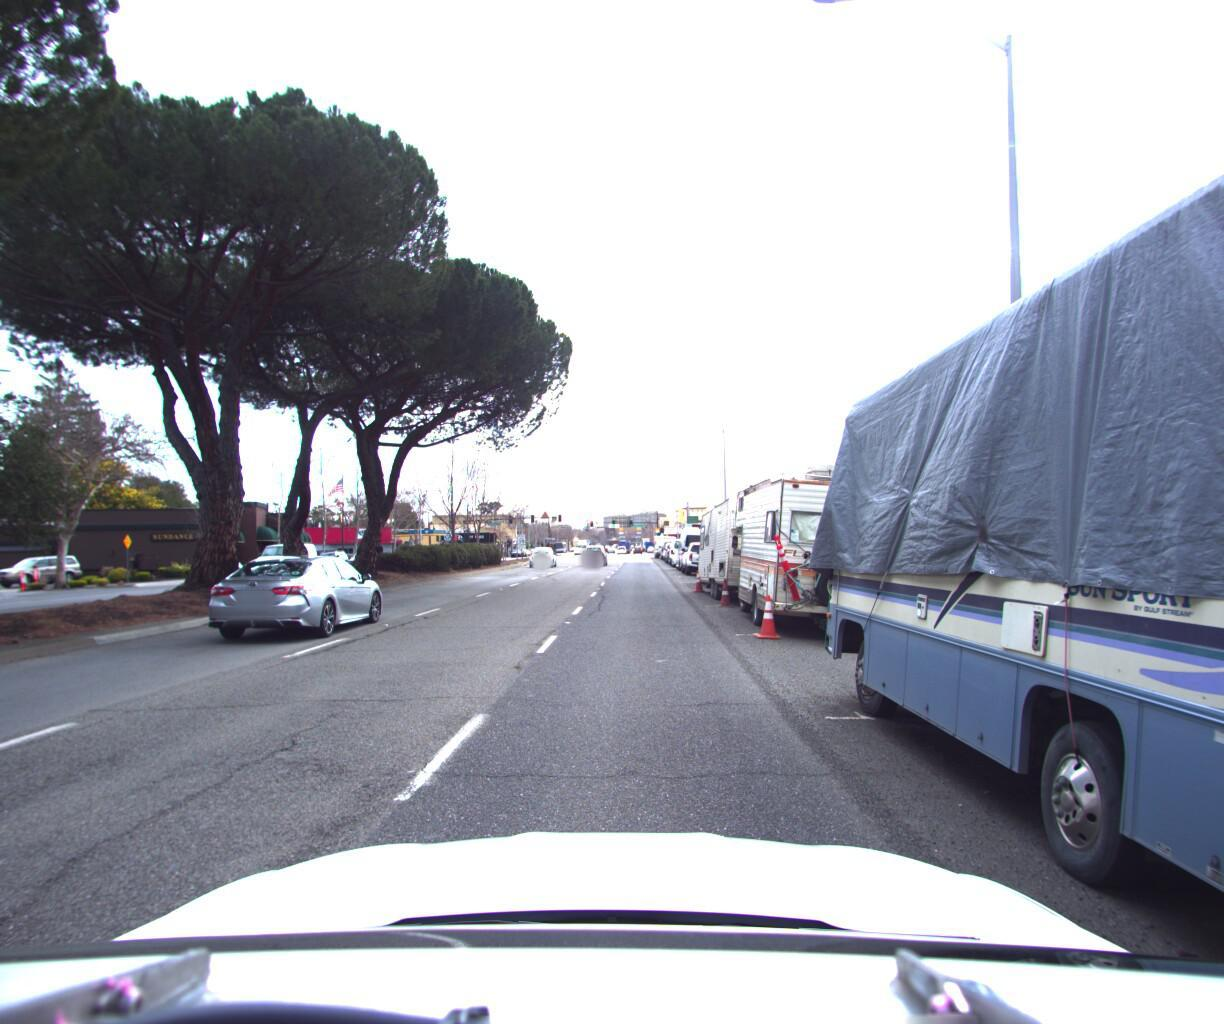car: (200, 547, 393, 645), (245, 537, 320, 574), (674, 520, 717, 568), (680, 535, 724, 571), (528, 538, 558, 561), (579, 538, 608, 561)
other_vehicle: (727, 445, 942, 644), (693, 480, 839, 610)
